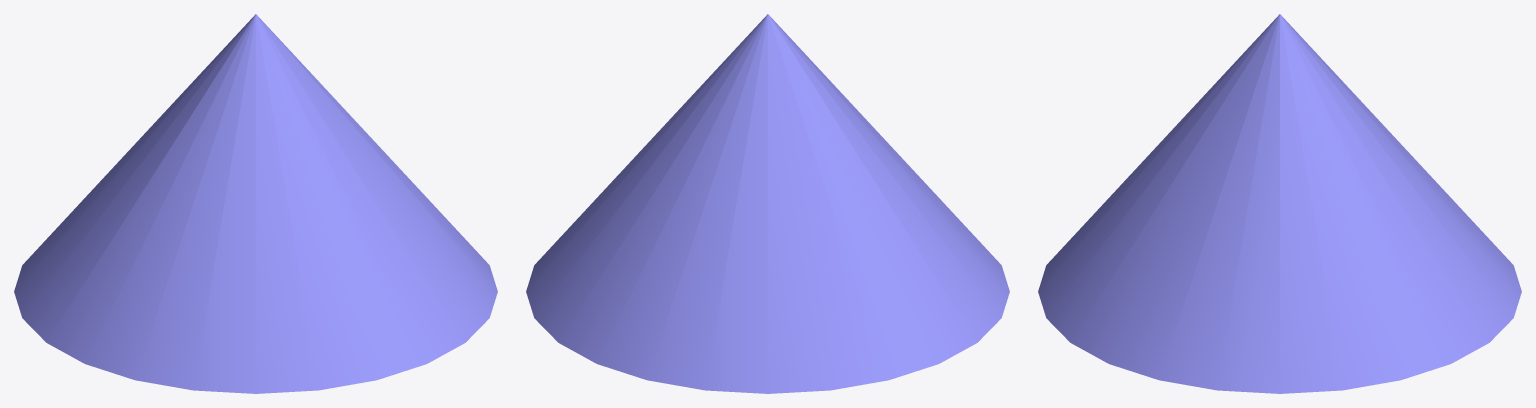
The model's file is cone bleu T.dae.
3 renders of one model, left to right at view 1: azimuth 30°, elevation 25°; view 2: azimuth 150°, elevation 25°; view 3: azimuth 270°, elevation 25°, orthographic.
Visible parts, largest first — view 1: SketchUp; view 2: SketchUp; view 3: SketchUp.
Boxes of the visible parts, x1=… form: SketchUp: x1=14, y1=14, x2=497, y2=393; SketchUp: x1=526, y1=14, x2=1009, y2=393; SketchUp: x1=1038, y1=14, x2=1521, y2=393.
Bounding box in the file's own units: 9266 × 9266 × 5866.
